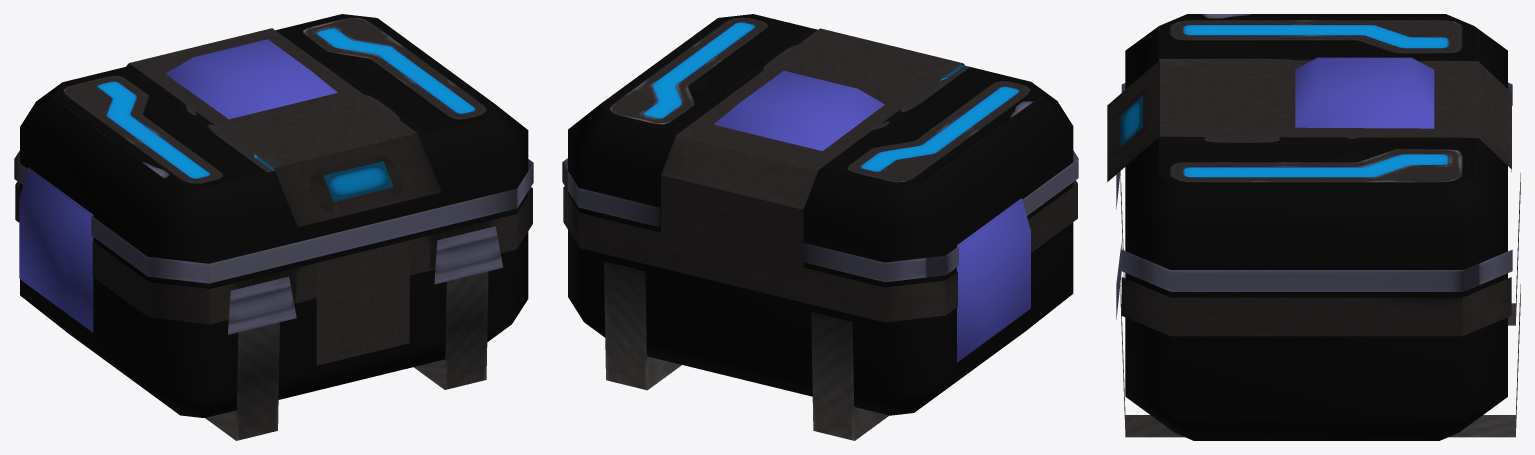
Rendered from obj_interactive_chest_lod1.fbx.
3 views of the same model, side by side, from view 1: azimuth 30°, elevation 25°; view 2: azimuth 150°, elevation 25°; view 3: azimuth 270°, elevation 25° (orthographic). The views are drawn at different scales.
Parts seen in each view (by area): view 1: obj_interactive_chest_lod1; view 2: obj_interactive_chest_lod1; view 3: obj_interactive_chest_lod1.
Part boxes in pixels (x1=…): obj_interactive_chest_lod1: x1=14, y1=14, x2=533, y2=440; obj_interactive_chest_lod1: x1=562, y1=14, x2=1078, y2=440; obj_interactive_chest_lod1: x1=1107, y1=14, x2=1520, y2=440.
Size of the model in its own units: 5.36 by 3.37 by 4.32.
2 materials, 1 textured.
